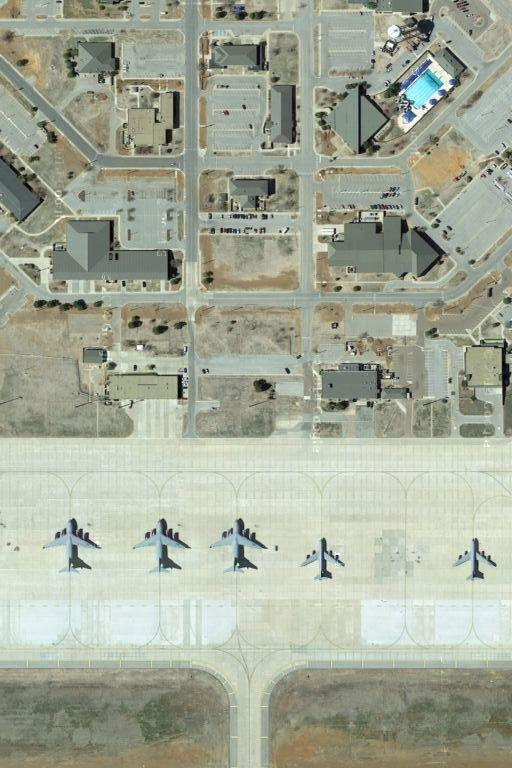C-17: (41, 513, 101, 577), (130, 514, 190, 577), (211, 515, 266, 578)
KC-135: (450, 535, 499, 586), (298, 537, 347, 584)
